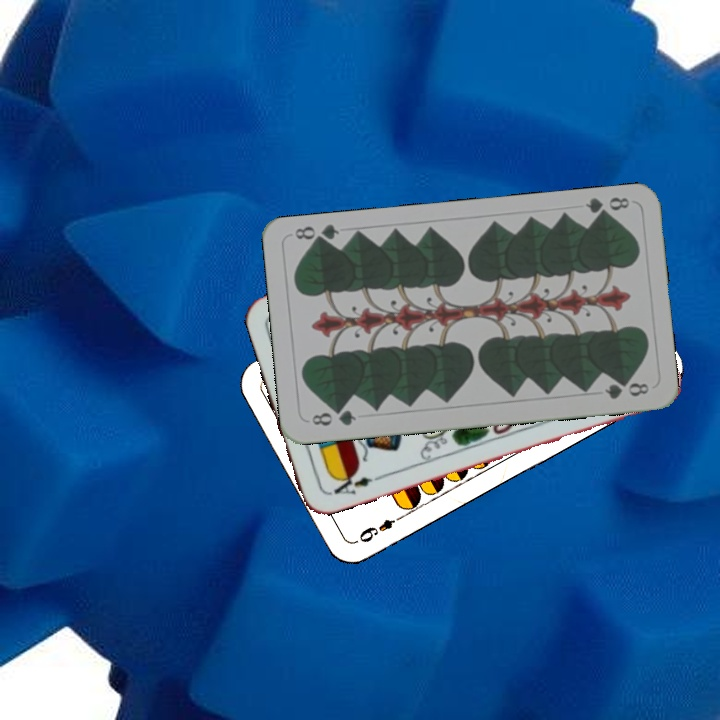E9: (354, 511, 407, 545)
EA: (324, 468, 382, 498)
G8: (581, 193, 632, 221), (307, 405, 359, 429)
